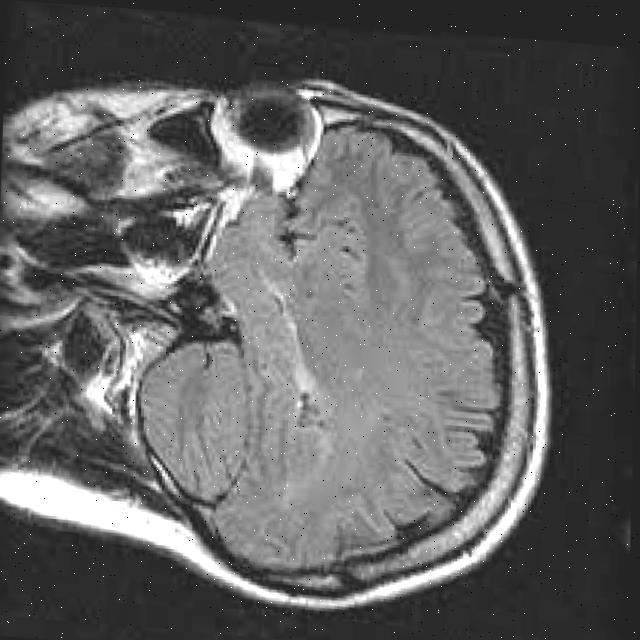NoTumor: (131, 64, 560, 627)
